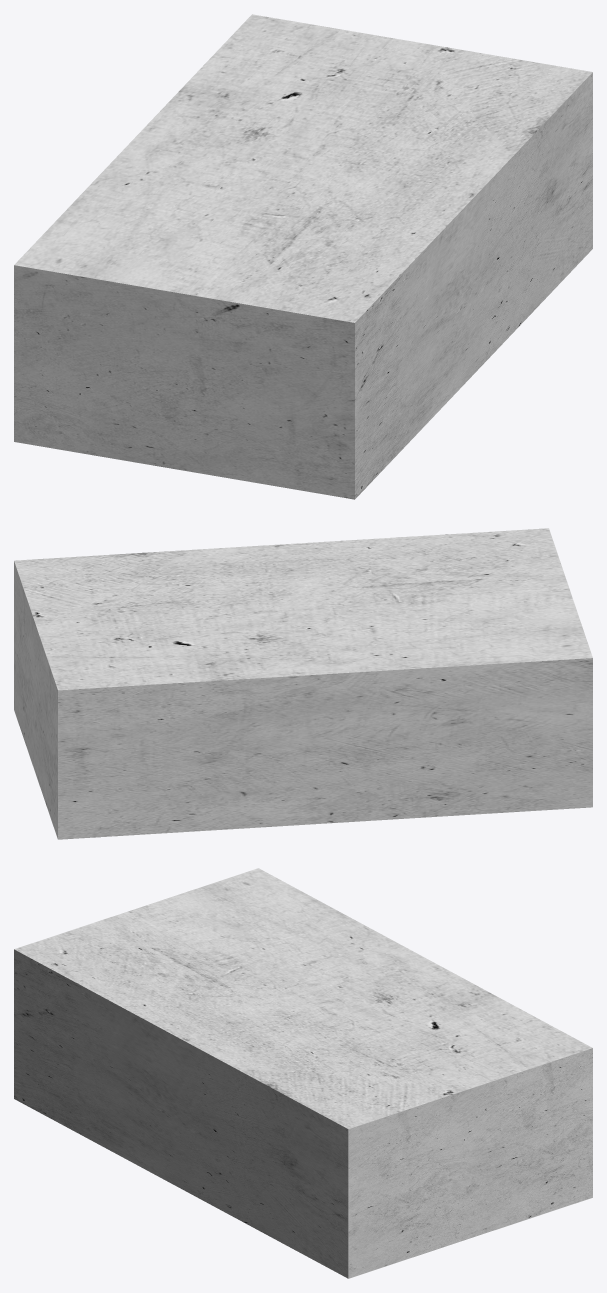
Rendered from PROA-OLD.gltf.
3 renders of one model, top to bottom at view 1: azimuth 30°, elevation 25°; view 2: azimuth 150°, elevation 25°; view 3: azimuth 270°, elevation 25°, orthographic. The views are drawn at different scales.
Visible parts, largest first — view 1: PROA; view 2: PROA; view 3: PROA.
Boxes of the visible parts, bbox=[...] form: PROA: bbox=[14, 14, 592, 499]; PROA: bbox=[14, 528, 592, 839]; PROA: bbox=[14, 868, 592, 1278].
Size of the model in its own units: 1.48 by 0.3959 by 1.39.
Materials: 1 (1 with a texture image).
